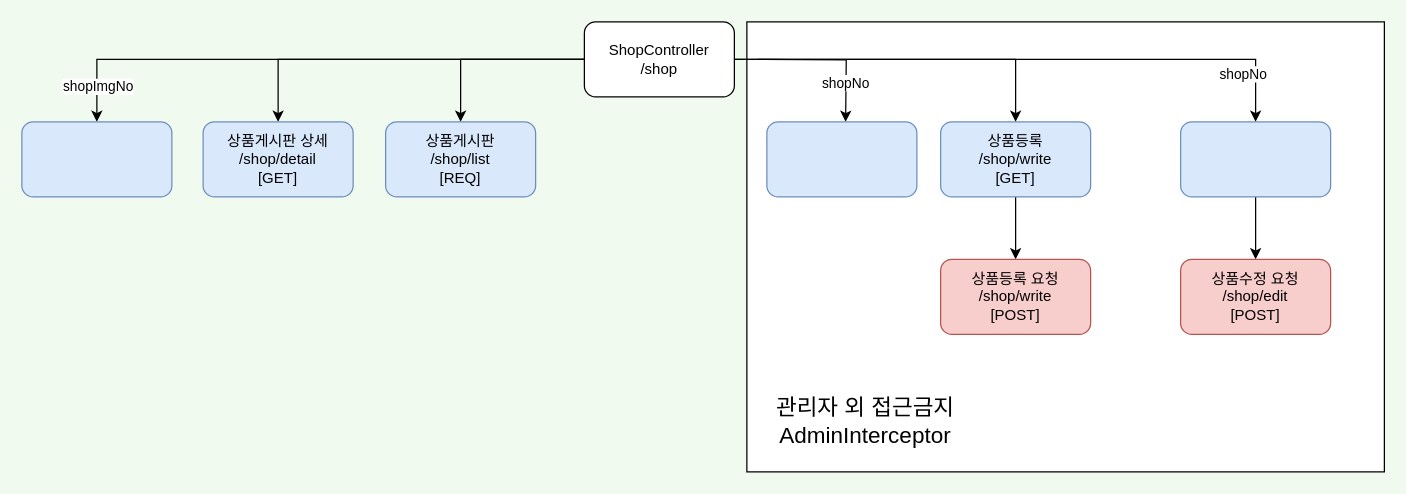
Some shapes in this 1406 by 494 pixel diagram are drawn without their labels. The centre of each missing label's shape, as x and y in pixels:
"상품 및 이미지삭제 /shop/delete [GET]" goes at pixel 841 159.
"상품 수정 /shop/edit [GET]" goes at pixel 1255 159.
"이미지 다운로드 /shop/img [GET]" goes at pixel 96 159.
